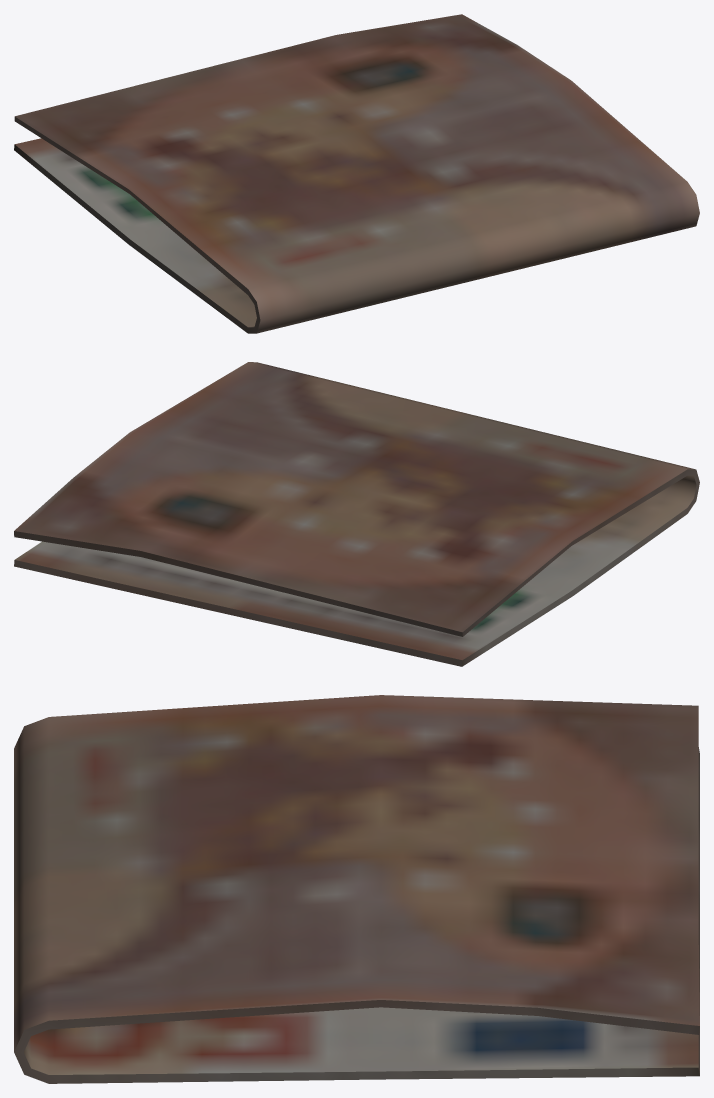
File: cash_6_1.fbx
The picture shows the model from 3 angles, top to bottom: view 1: azimuth 30°, elevation 25°; view 2: azimuth 150°, elevation 25°; view 3: azimuth 270°, elevation 25°; orthographic projection. The views are drawn at different scales.
Parts seen in each view (by area): view 1: cash_6_1; view 2: cash_6_1; view 3: cash_6_1.
Boxes of the visible parts, <box> form: cash_6_1: <box>14,14,699,333</box>; cash_6_1: <box>14,362,699,666</box>; cash_6_1: <box>14,695,699,1083</box>.
Size of the model in its own units: 0.1261 by 0.0161 by 0.118.
Materials: 1 (1 with a texture image).
